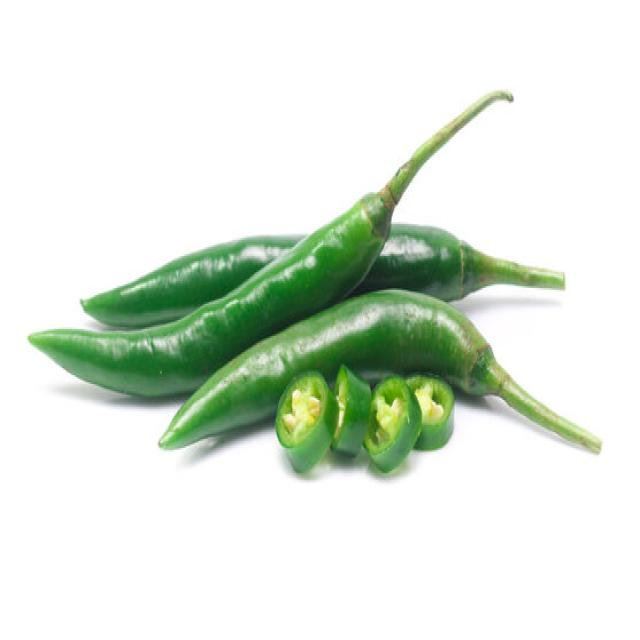Chilli: (28, 87, 514, 398), (156, 286, 602, 460), (21, 236, 508, 344), (353, 220, 565, 302)
